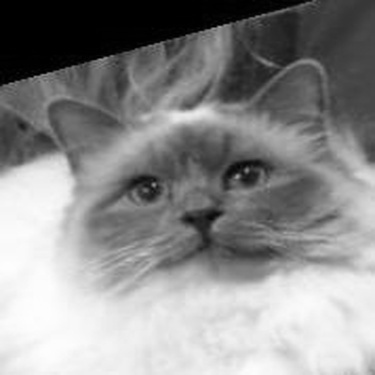cat: (42, 60, 372, 304)
